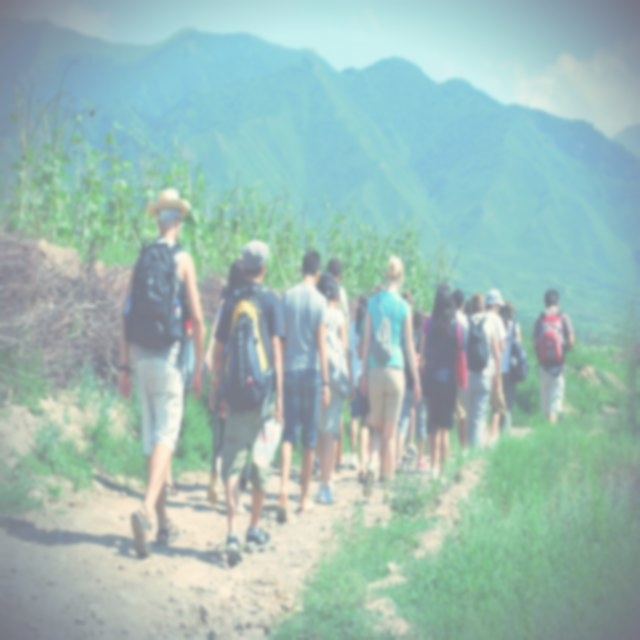pessoa: (112, 179, 210, 569), (208, 236, 288, 571), (0, 470, 226, 568), (274, 247, 332, 527), (358, 254, 422, 504), (416, 278, 464, 478), (422, 286, 469, 490), (312, 274, 349, 508), (460, 291, 502, 455), (531, 286, 575, 424), (326, 256, 353, 476), (168, 321, 205, 472), (496, 298, 530, 440), (345, 292, 371, 472), (206, 253, 244, 374), (481, 288, 508, 454), (400, 289, 420, 460), (410, 308, 430, 462), (212, 372, 232, 510), (454, 289, 506, 326), (372, 282, 413, 310)
